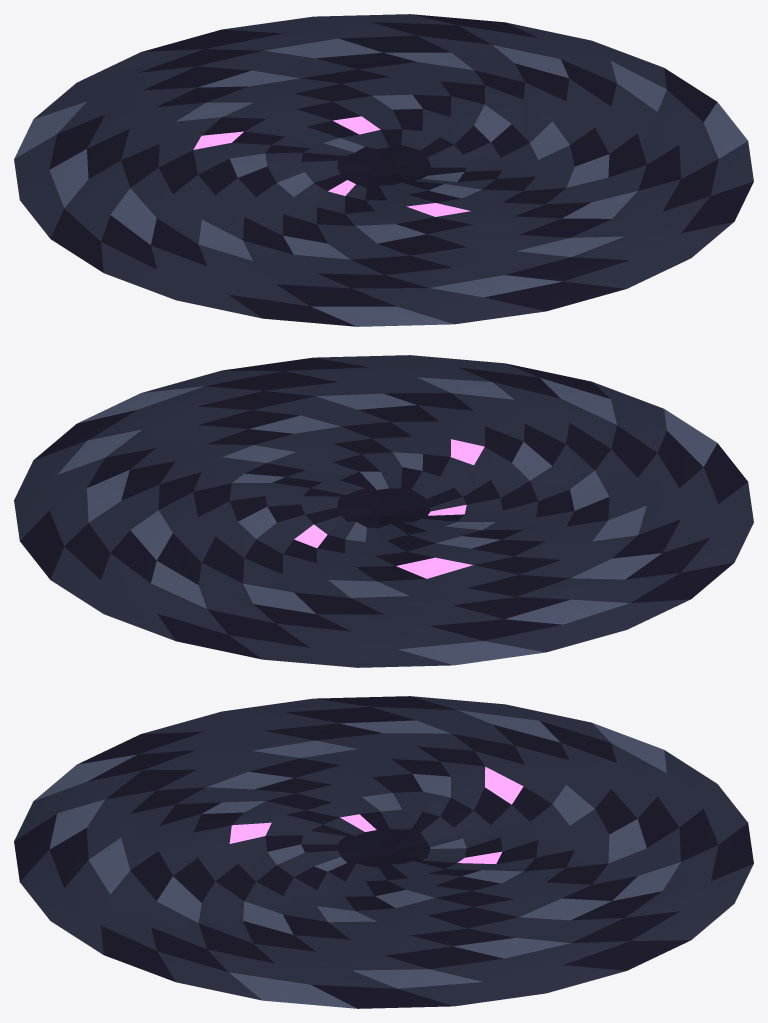
File: SM_Env_UndertowDisc_HQ.glb
The picture shows the model from 3 angles, top to bottom: view 1: azimuth 30°, elevation 25°; view 2: azimuth 150°, elevation 25°; view 3: azimuth 270°, elevation 25°; orthographic projection.
Visible parts, largest first — view 1: SM_Env_UndertowDisc_HQ; view 2: SM_Env_UndertowDisc_HQ; view 3: SM_Env_UndertowDisc_HQ.
Part boxes in pixels (<box>): SM_Env_UndertowDisc_HQ: <box>14,14,753,326</box>; SM_Env_UndertowDisc_HQ: <box>14,355,753,667</box>; SM_Env_UndertowDisc_HQ: <box>14,696,753,1008</box>.
Bounding box in the file's own units: 411 × 10.8 × 411.
1 material, 1 textured.
